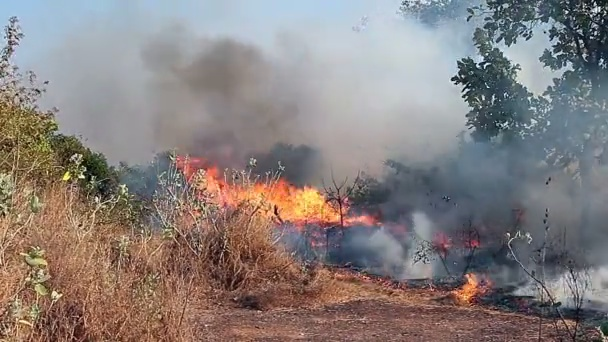fire: (228, 180, 335, 220), (459, 273, 476, 299)
